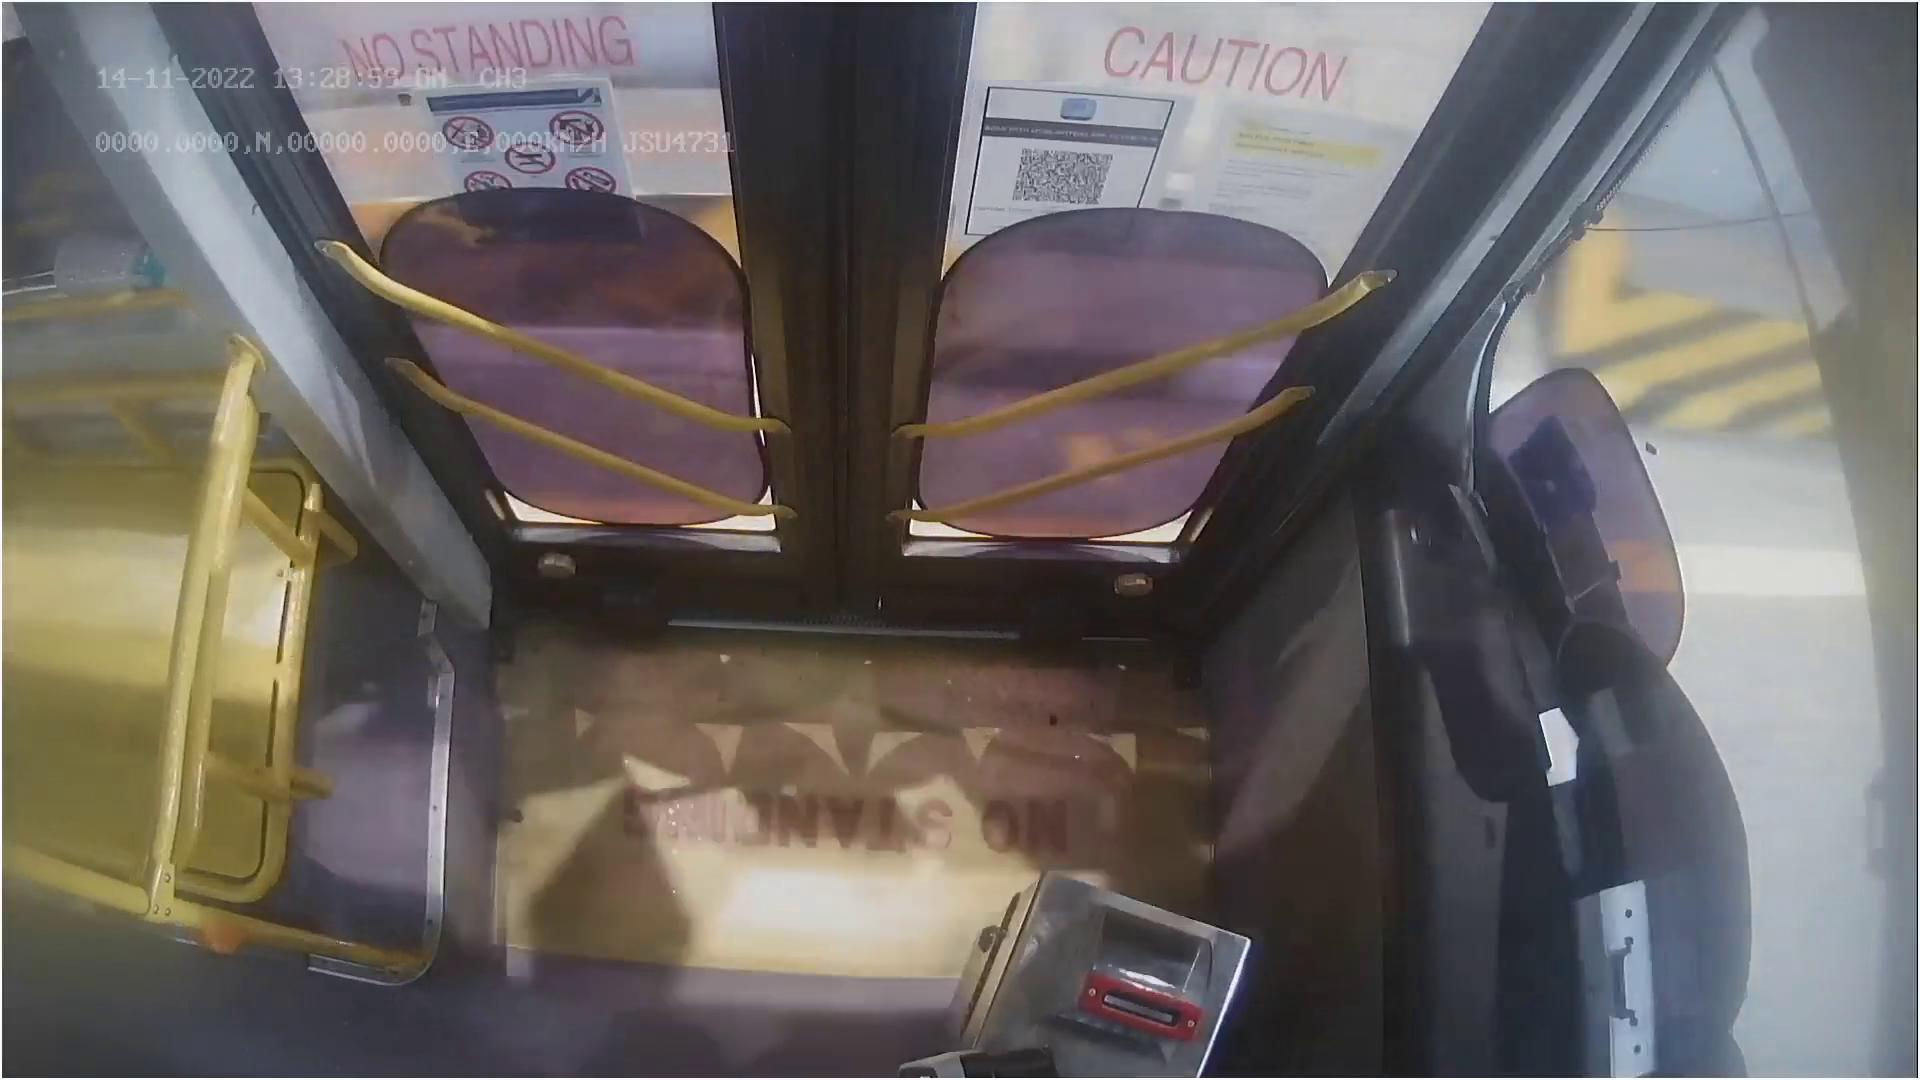close: (285, 0, 1447, 162)
